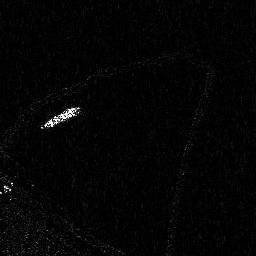ship: (39, 104, 80, 128)
